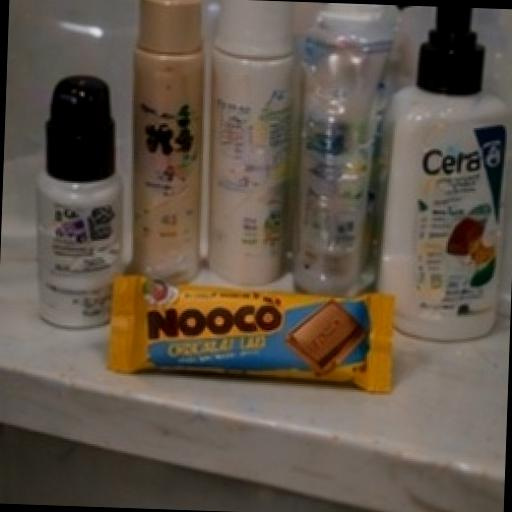biscuit-detection: (52, 224, 450, 432)
